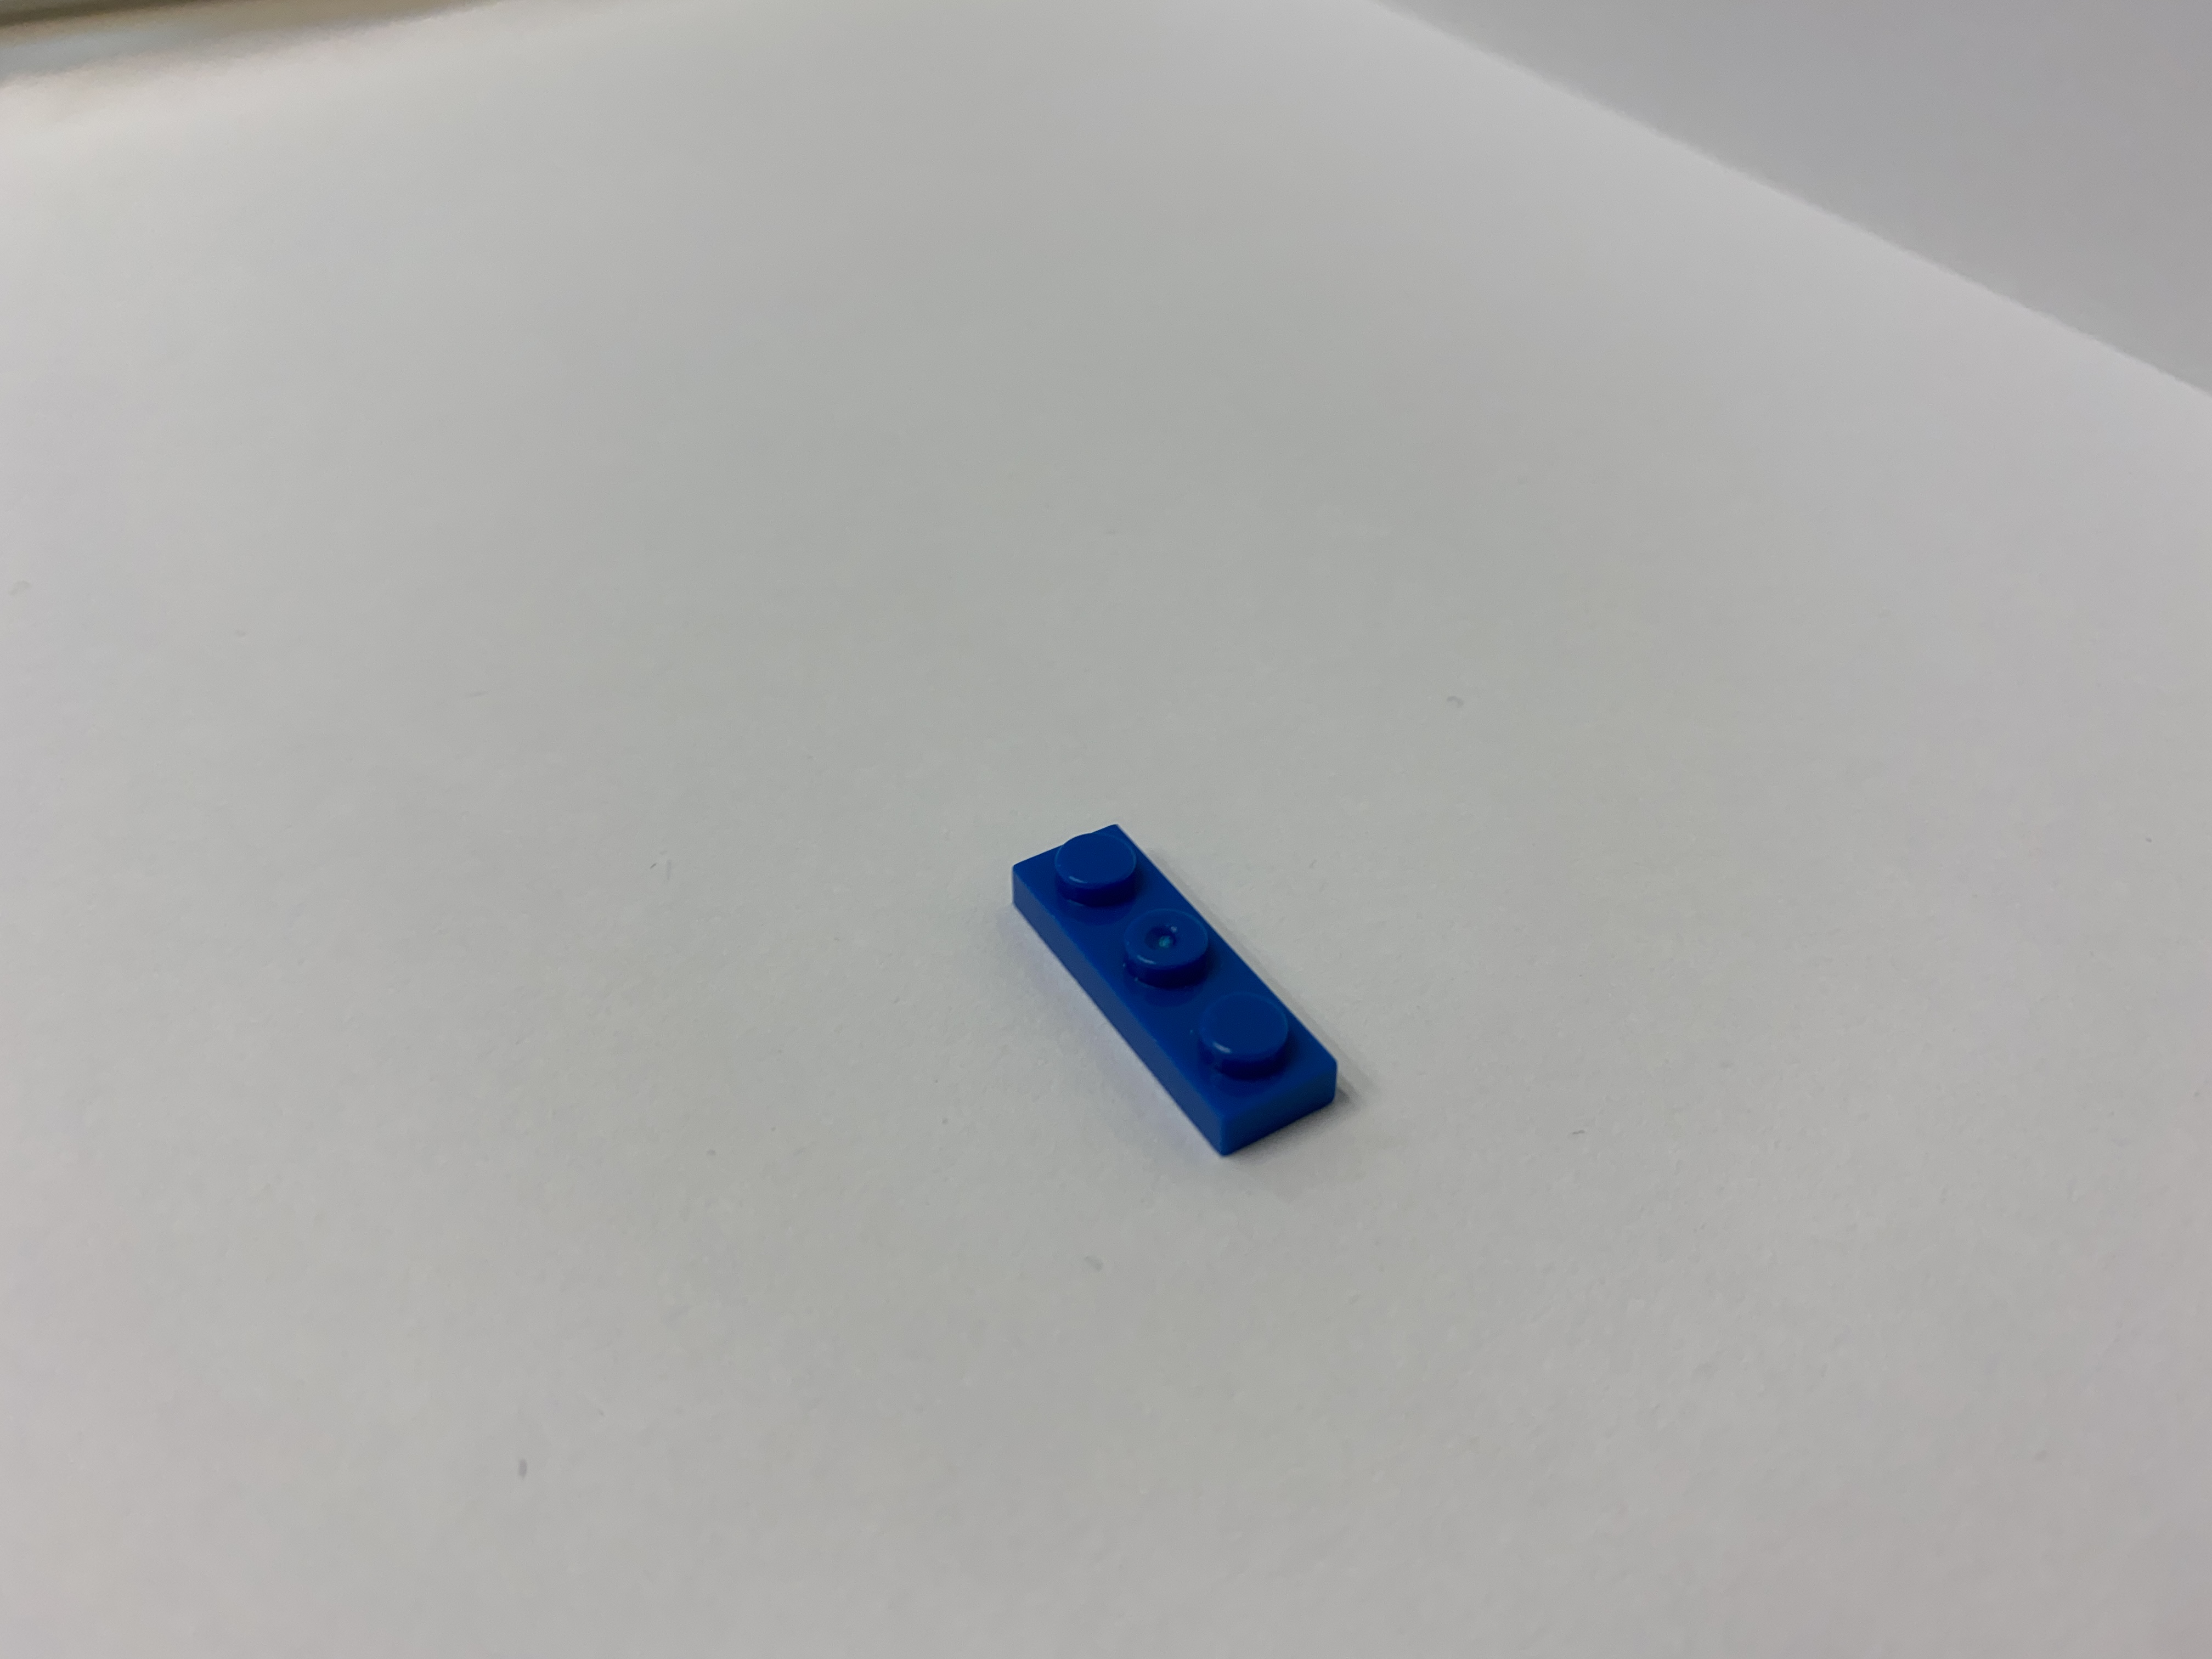car: (956, 779, 1397, 1223)
